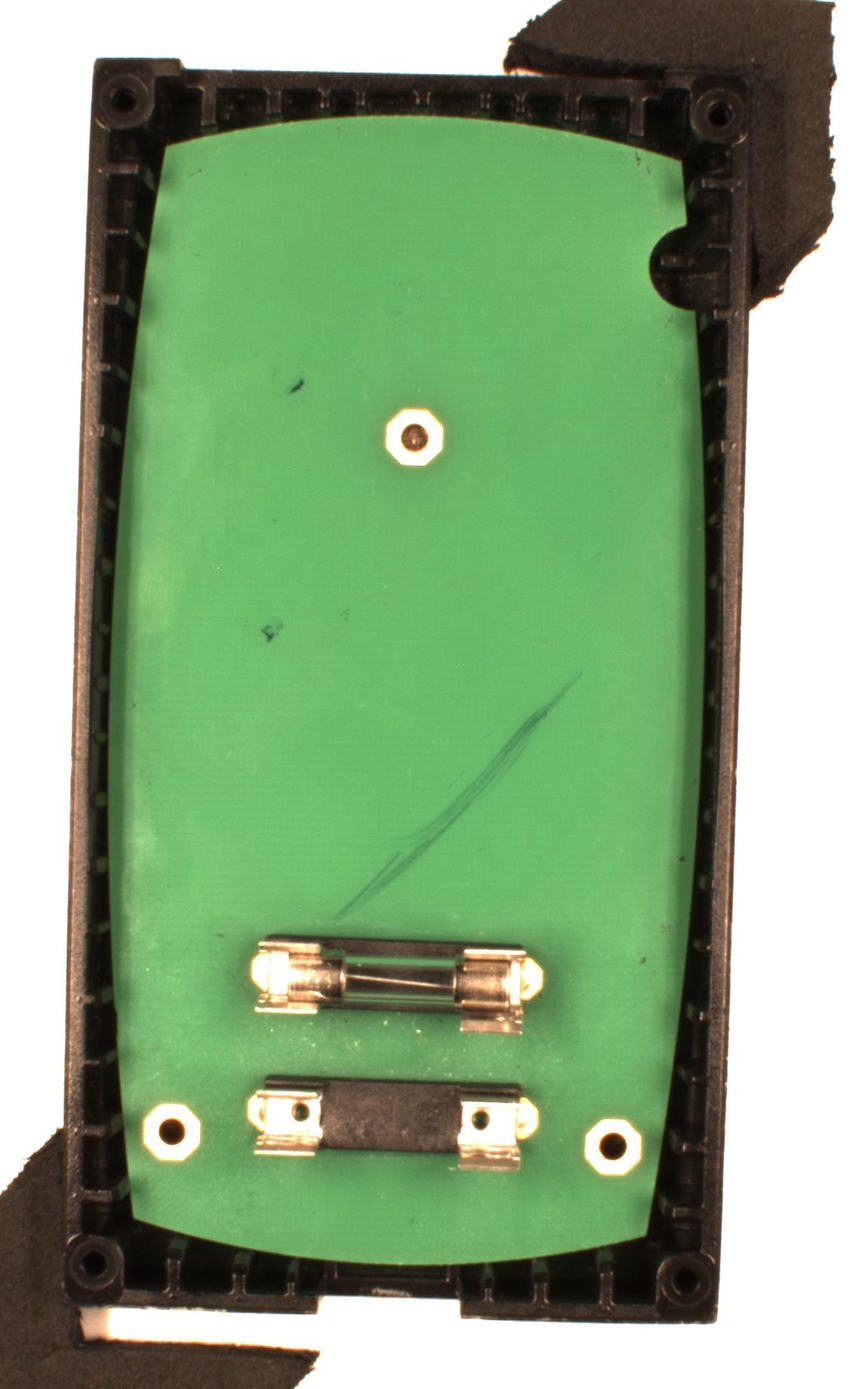Linijsko Ostecene: (329, 668, 586, 925)
Nepostojanje osiguraca: (245, 1072, 541, 1174)
Tockasto Ostecenje: (261, 621, 284, 644), (288, 377, 304, 396)
